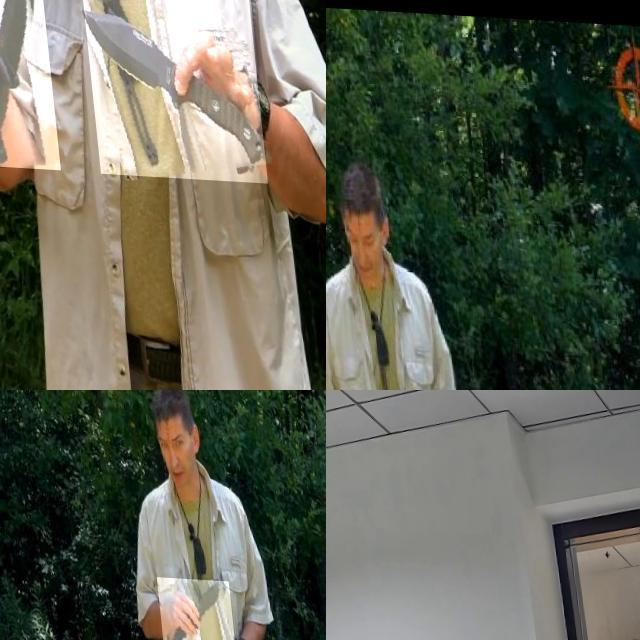-: (78, 0, 261, 178), (0, 0, 54, 167), (148, 573, 226, 640)
gun-knife-thesis - v11 Yolov5 augmented: (326, 498, 367, 640)
